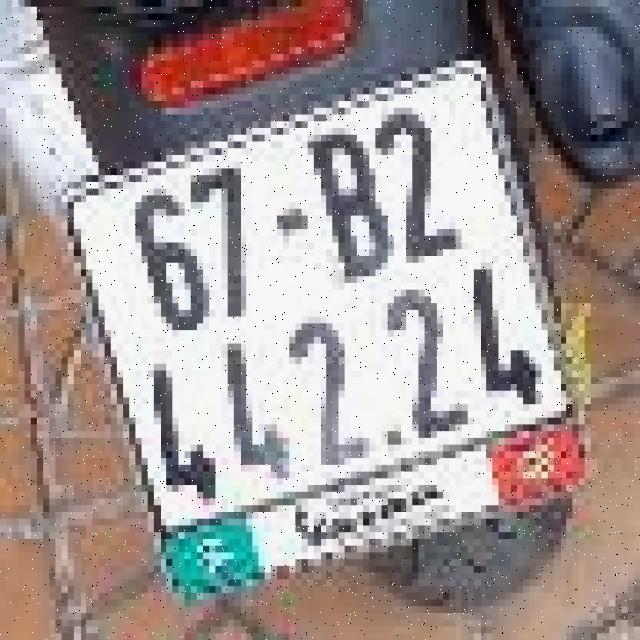2: (365, 275, 483, 444), (366, 97, 477, 272), (278, 309, 383, 477)
4: (205, 328, 308, 498), (131, 349, 235, 516), (450, 252, 554, 416)
6: (114, 178, 226, 350)
7: (186, 155, 284, 326)
B: (297, 117, 406, 296)
